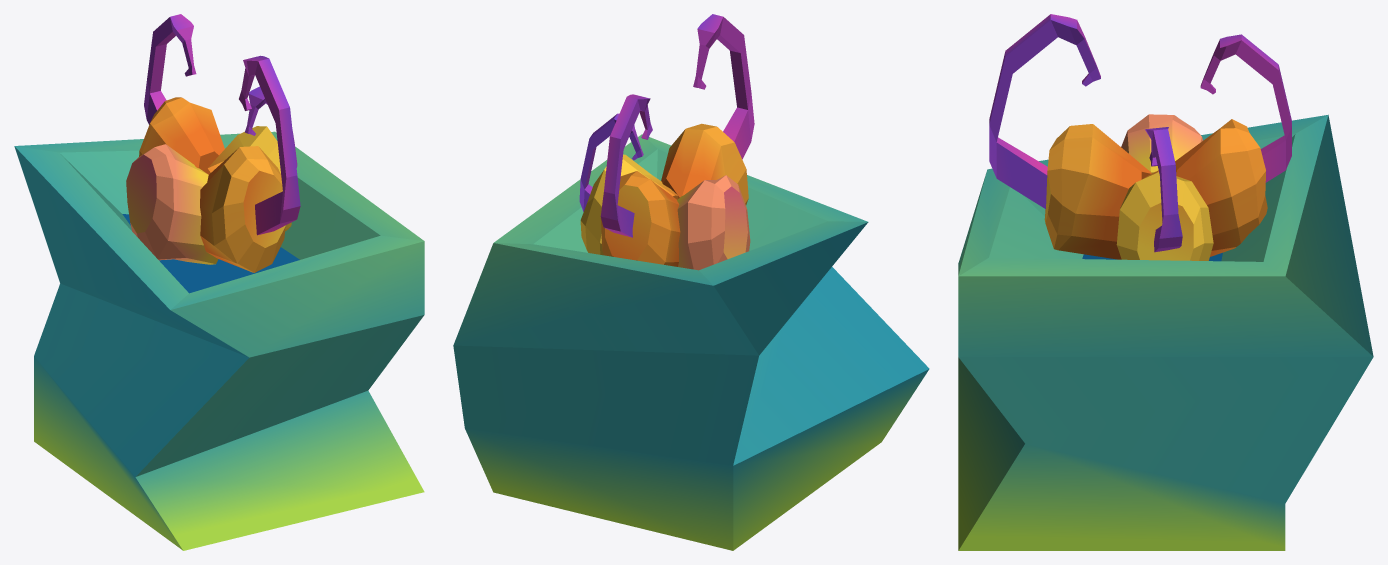
The model's file is SM_PottedPlant_A.fbx.
3 renders of one model, left to right at view 1: azimuth 30°, elevation 25°; view 2: azimuth 150°, elevation 25°; view 3: azimuth 270°, elevation 25°, orthographic. The views are drawn at different scales.
Parts seen in each view (by area): view 1: PlantPot_Type1.001, Cylinder.002, Cylinder.001, Cube.007, Cylinder.003, Cube.006, Cylinder, Cube.008; view 2: PlantPot_Type1.001, Cylinder.001, Cylinder.003, Cylinder.002, Cube.007, Cube.006, Cylinder, Cube.008; view 3: PlantPot_Type1.001, Cylinder.002, Cylinder.003, Cube.007, Cylinder, Cube.006, Cube.008, Cylinder.001.
Boxes of the visible parts, left/top/right/bottom form: PlantPot_Type1.001: left=14, top=131, right=424, bottom=550; Cylinder.002: left=200, top=146, right=285, bottom=272; Cylinder.001: left=126, top=144, right=218, bottom=264; Cube.007: left=239, top=55, right=300, bottom=235; Cylinder.003: left=139, top=97, right=224, bottom=174; Cube.006: left=144, top=14, right=196, bottom=124; Cylinder: left=207, top=126, right=291, bottom=231; Cube.008: left=245, top=86, right=297, bottom=167; PlantPot_Type1.001: left=453, top=134, right=929, bottom=550; Cylinder.001: left=677, top=175, right=750, bottom=270; Cylinder.003: left=600, top=171, right=680, bottom=266; Cylinder.002: left=661, top=123, right=748, bottom=204; Cube.007: left=693, top=14, right=754, bottom=159; Cube.006: left=600, top=94, right=652, bottom=237; Cylinder: left=580, top=154, right=678, bottom=255; Cube.008: left=579, top=113, right=643, bottom=211; PlantPot_Type1.001: left=958, top=114, right=1373, bottom=550; Cylinder.002: left=1044, top=124, right=1151, bottom=259; Cylinder.003: left=1175, top=119, right=1267, bottom=256; Cube.007: left=989, top=14, right=1100, bottom=208; Cylinder: left=1116, top=170, right=1213, bottom=260; Cube.006: left=1200, top=34, right=1291, bottom=182; Cube.008: left=1145, top=127, right=1182, bottom=252; Cylinder.001: left=1121, top=114, right=1202, bottom=173.
Size of the model in its own units: 70.45 by 68.14 by 88.11.
